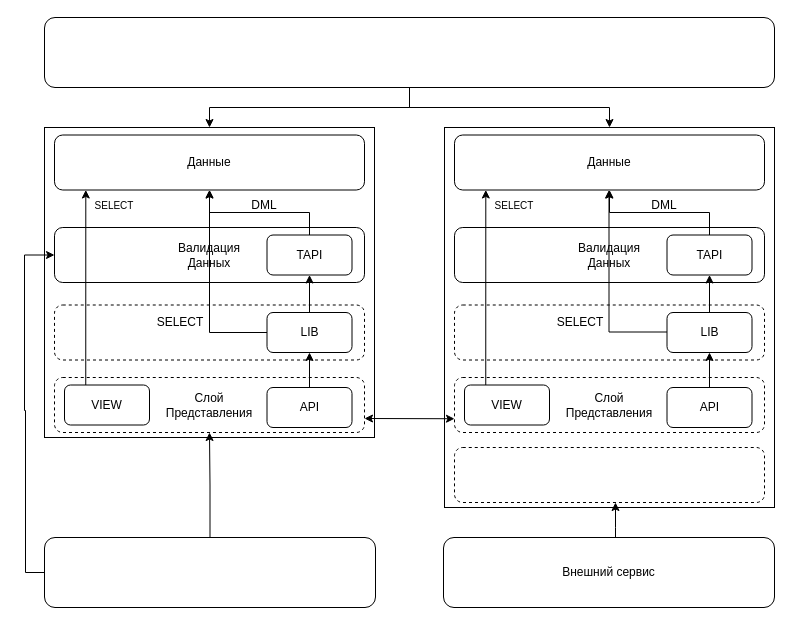
Image size: 792x625. Some labels were removed from this diagram. The centre of each missing label's shape, as x and y in pixels:
"APEX" belongs at (210,572).
"WI_API" belongs at (609,474).
"Общие библиотеки LIB" belongs at (409,52).
